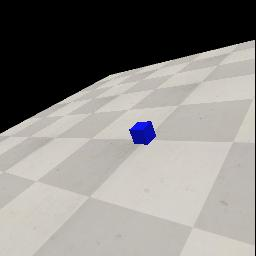box: (129, 121, 156, 145)
